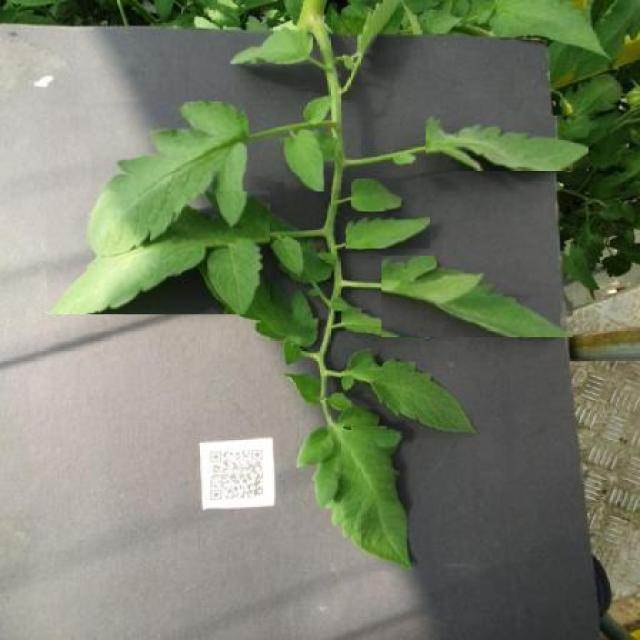Healthy: (47, 191, 270, 315), (92, 102, 249, 251), (296, 407, 414, 572), (382, 256, 574, 337), (342, 348, 478, 436), (426, 116, 588, 170), (230, 26, 313, 64), (346, 217, 430, 249), (284, 128, 324, 192), (350, 178, 401, 212)
